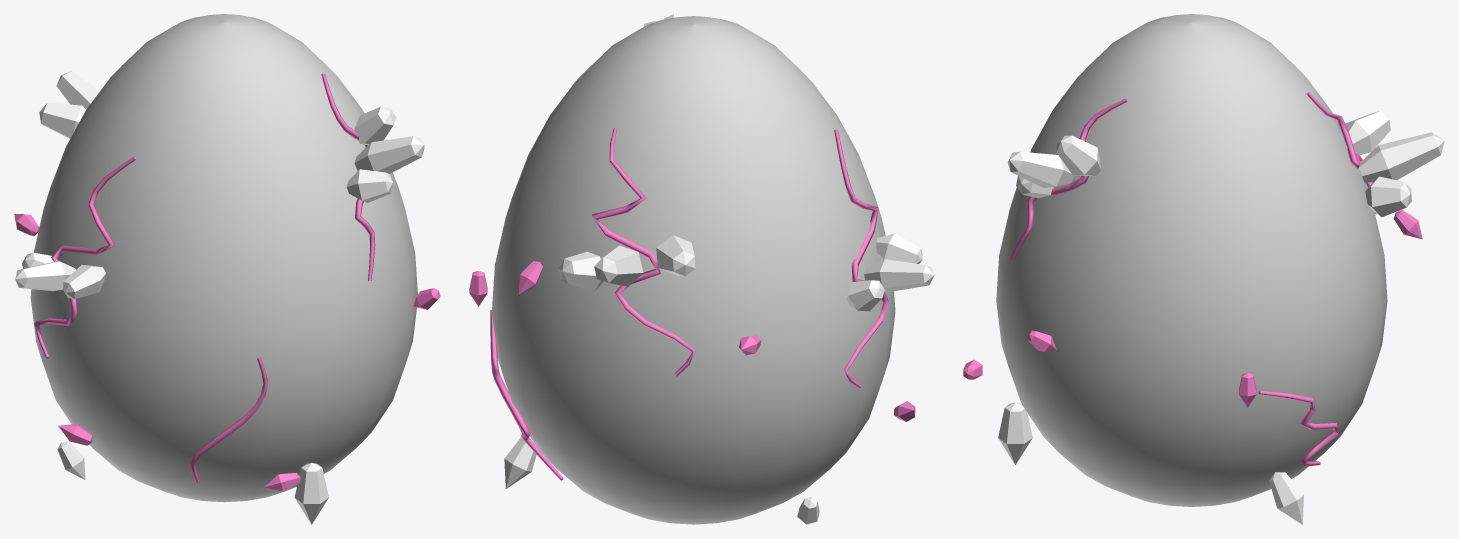
File: ChaosEgg.glb
3 views of the same model, side by side, from view 1: azimuth 30°, elevation 25°; view 2: azimuth 150°, elevation 25°; view 3: azimuth 270°, elevation 25° (orthographic). The views are drawn at different scales.
Parts seen in each view (by area): view 1: Shell, Crystal, Glow; view 2: Shell, Crystal, Glow; view 3: Shell, Crystal, Glow.
Part boxes in pixels (box(x1,y1,x2,y2)): Shell: box(30, 14, 417, 502); Crystal: box(15, 71, 424, 524); Glow: box(14, 73, 440, 491); Shell: box(492, 16, 895, 524); Crystal: box(504, 14, 934, 524); Glow: box(469, 128, 915, 480); Shell: box(996, 14, 1387, 506); Crystal: box(998, 111, 1444, 524); Glow: box(963, 92, 1422, 465).
Bounding box in the file's own units: 3.7 × 4 × 3.75.
